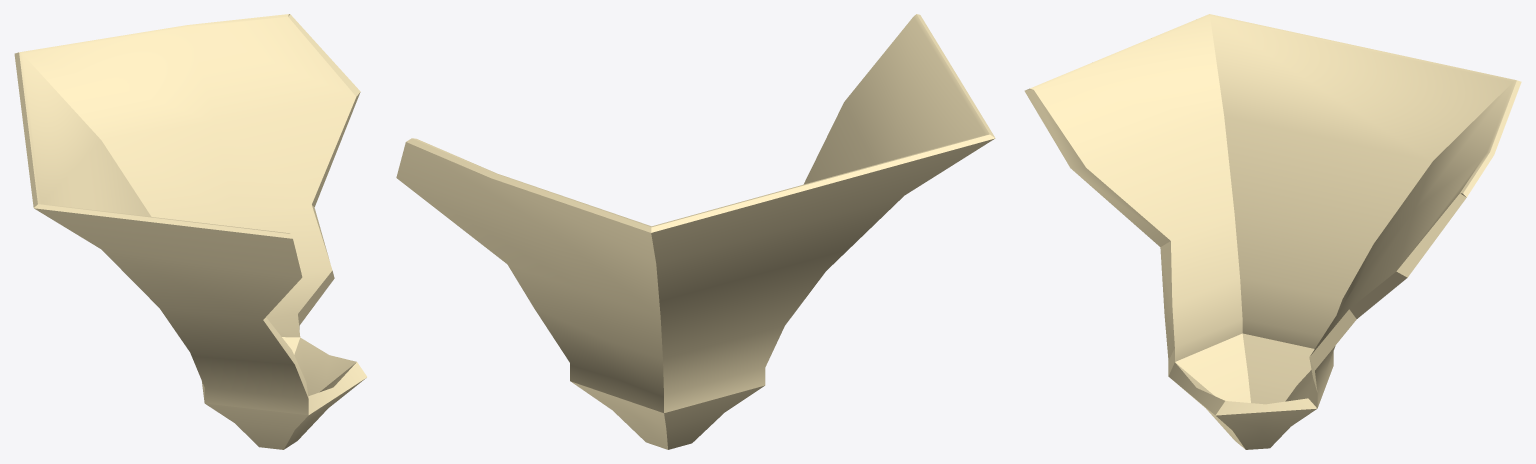
File: Prop_Lampe_Glas_B01.fbx
3 views of the same model, side by side, from view 1: azimuth 30°, elevation 25°; view 2: azimuth 150°, elevation 25°; view 3: azimuth 270°, elevation 25° (orthographic). The views are drawn at different scales.
Visible parts, largest first — view 1: Circle_NoneL_NoneGlas; view 2: Circle_NoneL_NoneGlas; view 3: Circle_NoneL_NoneGlas.
Boxes of the visible parts, <box> form: Circle_NoneL_NoneGlas: <box>14,14,366,449</box>; Circle_NoneL_NoneGlas: <box>396,14,995,449</box>; Circle_NoneL_NoneGlas: <box>1024,14,1521,449</box>.
Bounding box in the file's own units: 0.7742 × 0.5472 × 0.8072.
